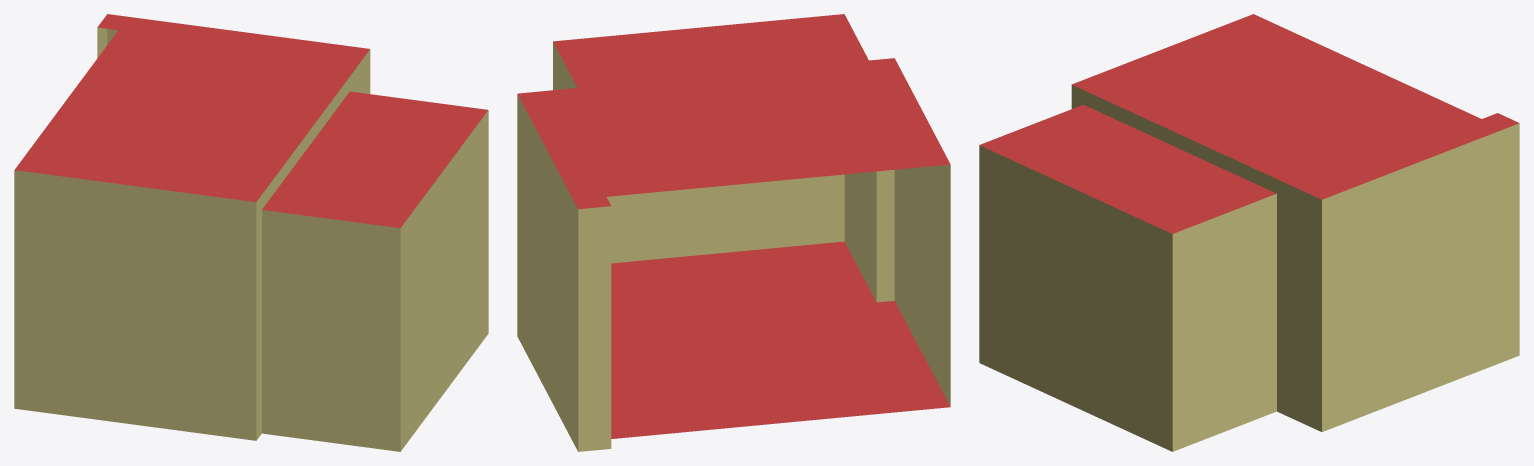
3 renders of one model, left to right at view 1: azimuth 30°, elevation 25°; view 2: azimuth 150°, elevation 25°; view 3: azimuth 270°, elevation 25°, orthographic. The views are drawn at different scales.
Bounding box in the file's own units: 11.19 × 12.44 × 5.9.
